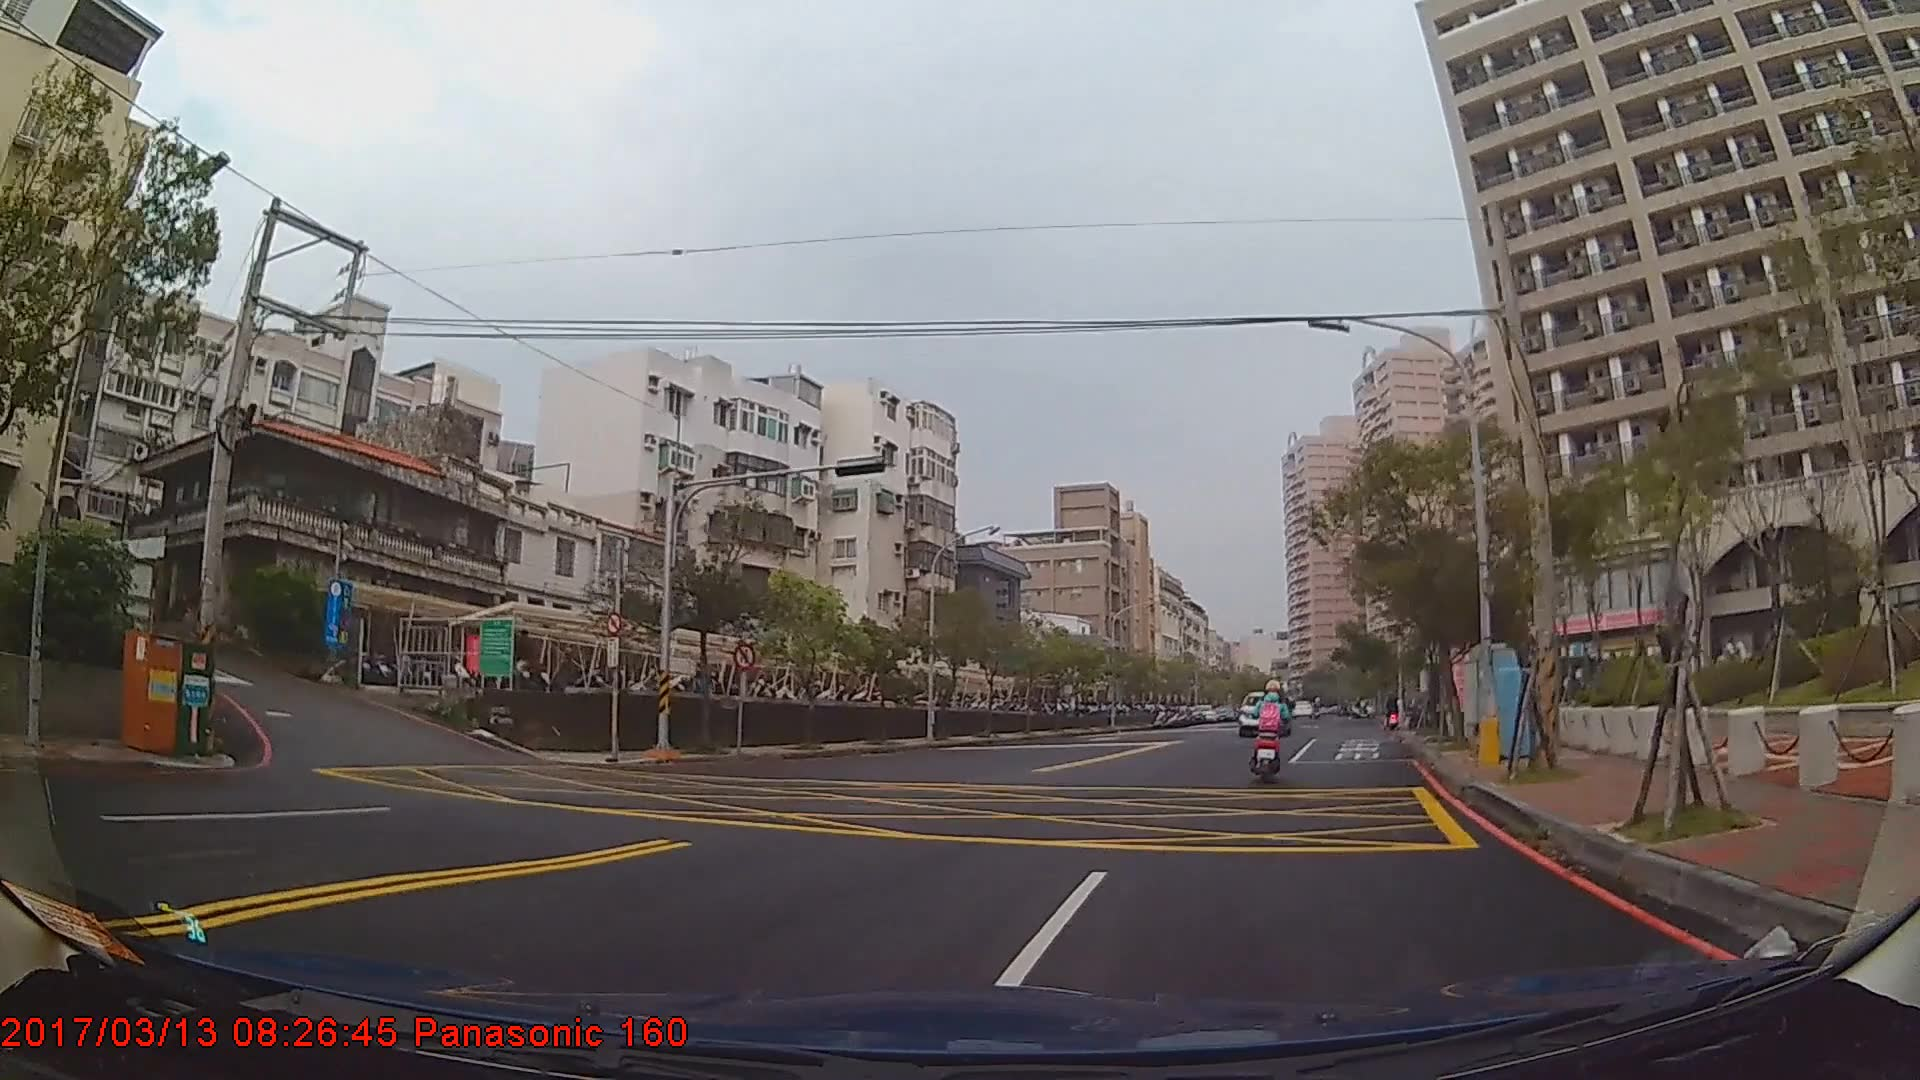rider: (1248, 679, 1295, 780)
vehicle: (1233, 688, 1288, 736)
